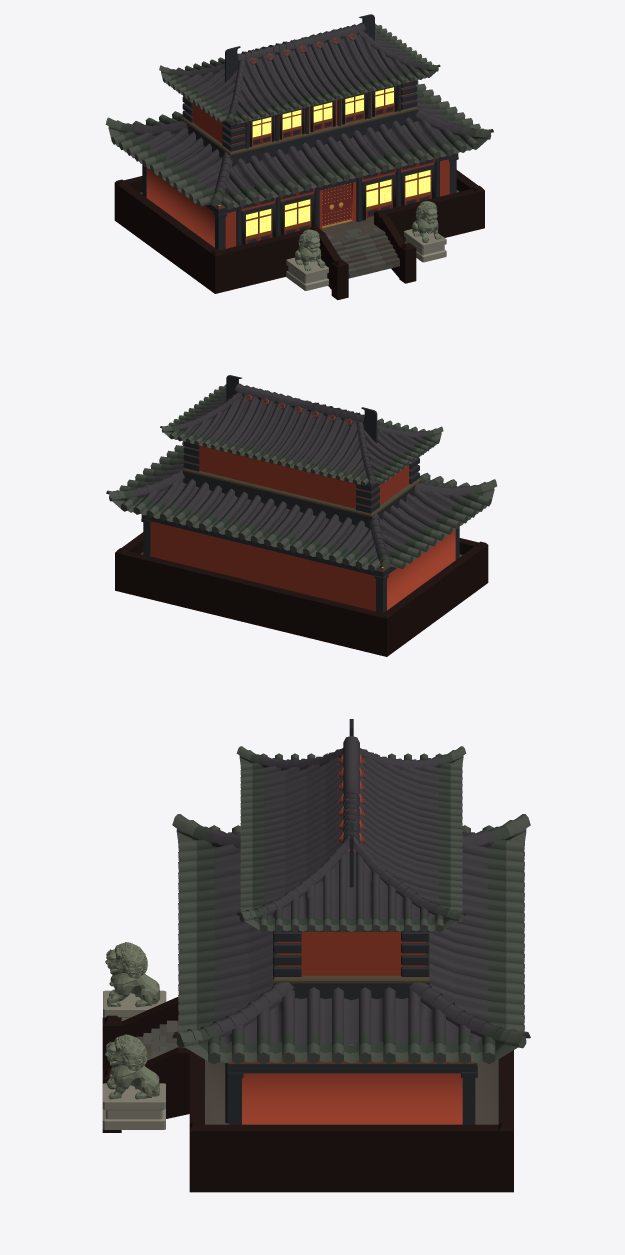
The model's file is temple-optimized.glb.
The picture shows the model from 3 angles, top to bottom: view 1: azimuth 30°, elevation 25°; view 2: azimuth 150°, elevation 25°; view 3: azimuth 270°, elevation 25°; orthographic projection. The views are drawn at different scales.
Visible parts, largest first — view 1: LionRight_Lion.001_0, MainTempleRoof_Roof2_0, MainTempleRoof_Roof3_0, MainTempleWindows_Wood4_0, LionRight_Pedestal.001_0; view 2: LionRight_Lion.001_0, MainTempleRoof_Roof2_0, MainTempleRoof_Roof3_0; view 3: LionRight_Lion.001_0, MainTempleRoof_Roof2_0, MainTempleRoof_Roof3_0, LionRight_Pedestal.001_0.
Boxes of the visible parts, x1,y1,x2,y2 form: LionRight_Lion.001_0: (114,14,484,299); MainTempleRoof_Roof2_0: (105,23,493,209); MainTempleRoof_Roof3_0: (119,26,477,203); MainTempleWindows_Wood4_0: (218,87,430,236); LionRight_Pedestal.001_0: (286,183,446,290); LionRight_Lion.001_0: (115,375,488,656); MainTempleRoof_Roof2_0: (106,384,497,571); MainTempleRoof_Roof3_0: (122,387,483,564); LionRight_Lion.001_0: (102,719,513,1192); MainTempleRoof_Roof2_0: (172,746,530,1064); MainTempleRoof_Roof3_0: (191,753,511,1053); LionRight_Pedestal.001_0: (102,990,166,1129).
Bounding box in the file's own units: 3086 × 1627 × 2389.
Materials: 7 (7 with a texture image).
